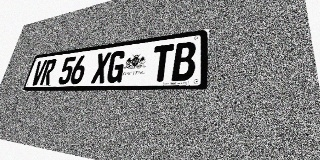5: (57, 56, 76, 85)
6: (69, 55, 89, 84)
B: (171, 41, 196, 81)
G: (105, 50, 127, 83)
R: (39, 59, 57, 85)
T: (150, 44, 174, 82)
V: (30, 60, 47, 85)
X: (91, 52, 111, 84)
